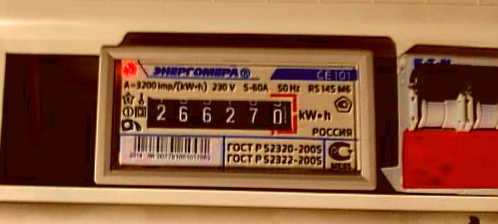0: (270, 106, 282, 126)
2: (154, 102, 168, 123), (223, 105, 236, 125)
6: (176, 104, 189, 124), (201, 105, 213, 124)
7: (247, 106, 259, 125)
screen: (133, 84, 307, 144)
